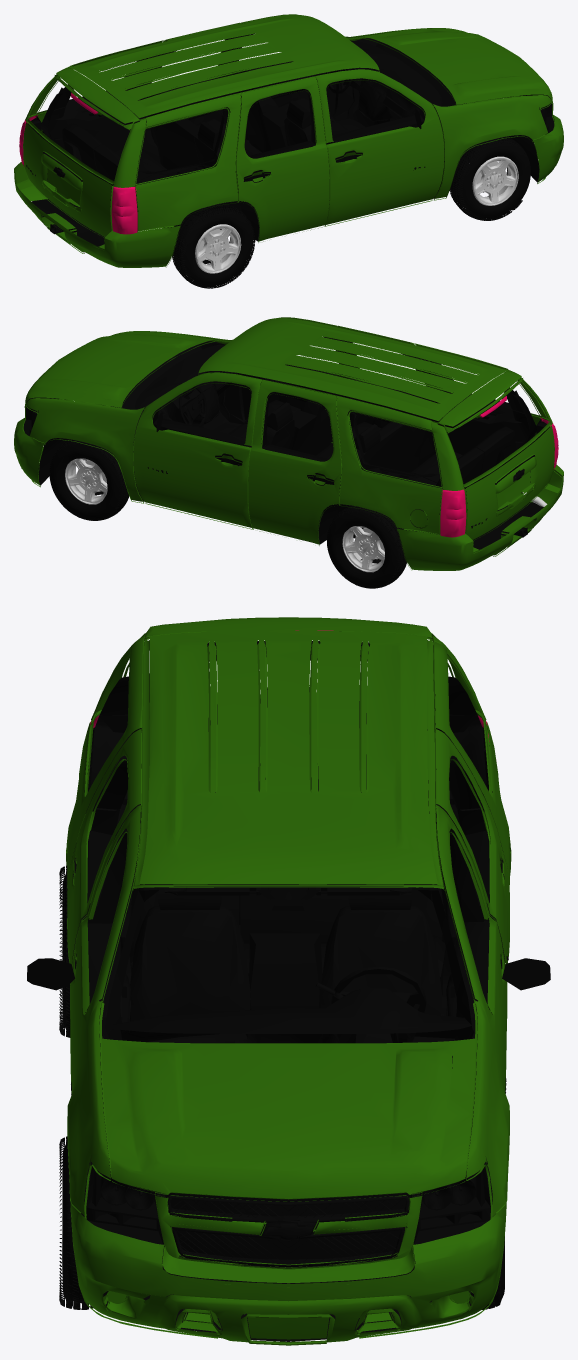
Rendered from suv-driving.glb.
3 renders of one model, top to bottom at view 1: azimuth 30°, elevation 25°; view 2: azimuth 150°, elevation 25°; view 3: azimuth 270°, elevation 25°, orthographic. The views are drawn at different scales.
Visible parts, largest first — view 1: body_3, body_4, body_5, body_2, wheel_2_2, wheel_0_2, body_8, wheel_0_3, wheel_2_3, body_1, wheel_2_1, wheel_0_1; view 2: body_3, body_4, body_5, body_2, wheel_3_1, wheel_1_1, body_8, body_1, wheel_1_2, wheel_3_2; view 3: body_3, body_4, body_5, body_2, body_8, body_7, wheel_0_2, wheel_2_1.
Part boxes in pixels (x1,y1,x2,y2): body_3: (14, 14, 563, 267); body_4: (62, 40, 443, 211); body_5: (26, 33, 554, 213); body_2: (15, 34, 556, 267); wheel_2_2: (172, 203, 253, 287); wheel_0_2: (449, 136, 530, 219); body_8: (31, 94, 547, 263); wheel_0_3: (472, 156, 518, 205); wheel_2_3: (195, 224, 241, 273); body_1: (19, 92, 137, 234); wheel_2_1: (173, 203, 255, 288); wheel_0_1: (450, 147, 522, 220); body_3: (14, 317, 563, 570); body_4: (134, 344, 515, 528); body_5: (23, 337, 549, 534); body_2: (21, 340, 562, 570); wheel_3_1: (326, 506, 407, 588); wheel_1_1: (49, 439, 129, 520); body_8: (30, 397, 543, 563); body_1: (440, 395, 558, 537); wheel_1_2: (65, 458, 107, 504); wheel_3_2: (342, 526, 384, 572); body_3: (66, 617, 511, 1342); body_4: (27, 754, 550, 1116); body_5: (71, 641, 506, 1244); body_2: (66, 631, 511, 1345); body_8: (72, 842, 505, 1341); body_7: (168, 956, 508, 1267); wheel_0_2: (62, 1139, 86, 1309); wheel_2_1: (59, 865, 85, 1037).
Size of the model in its own units: 79.09 by 27.6 by 37.09.
